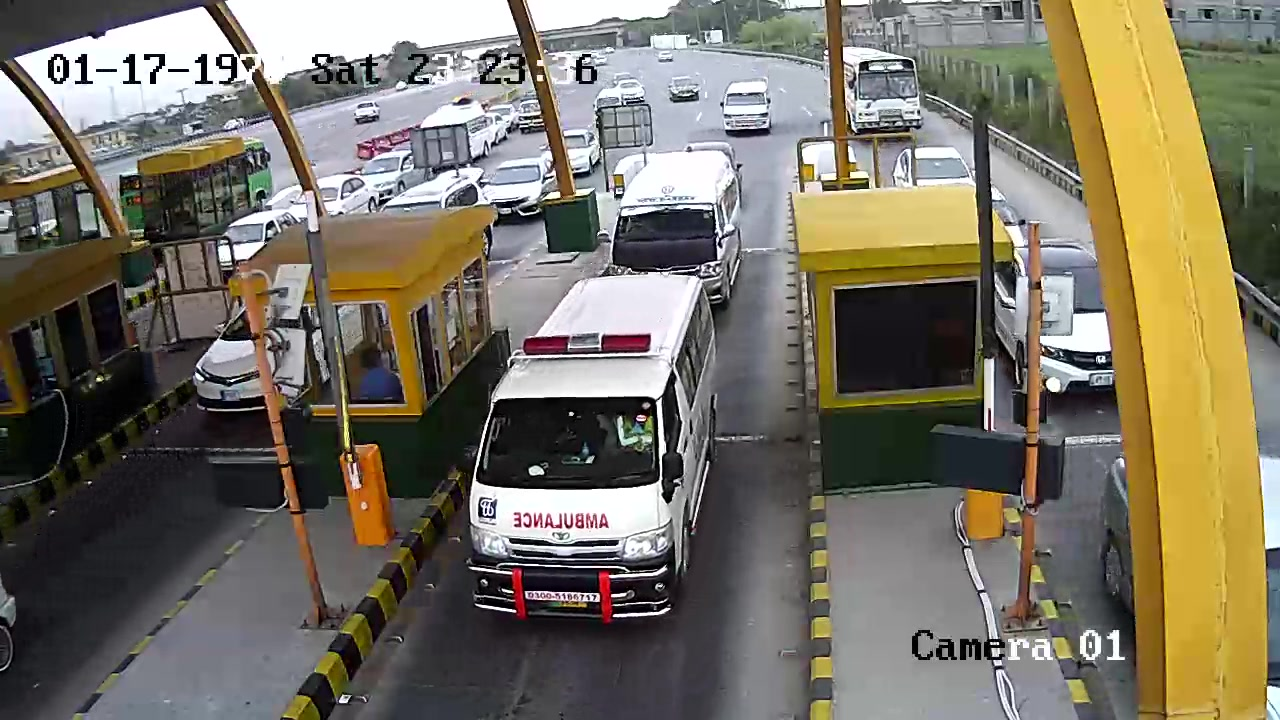F2: (461, 277, 721, 631), (611, 153, 744, 310)
